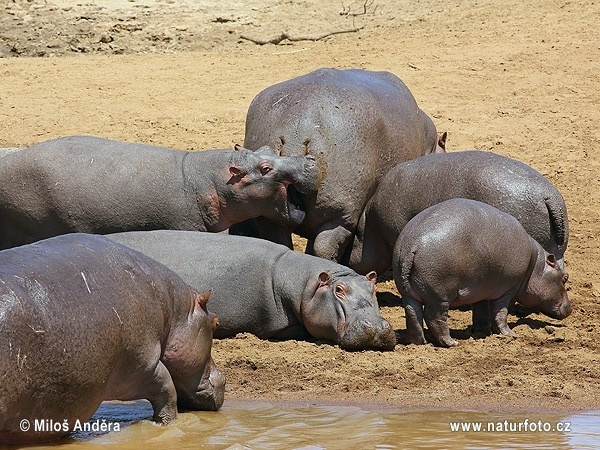hipopotamo: (1, 221, 235, 447), (238, 48, 448, 229), (115, 229, 404, 358), (1, 133, 323, 248), (352, 136, 575, 281), (384, 195, 581, 353)
